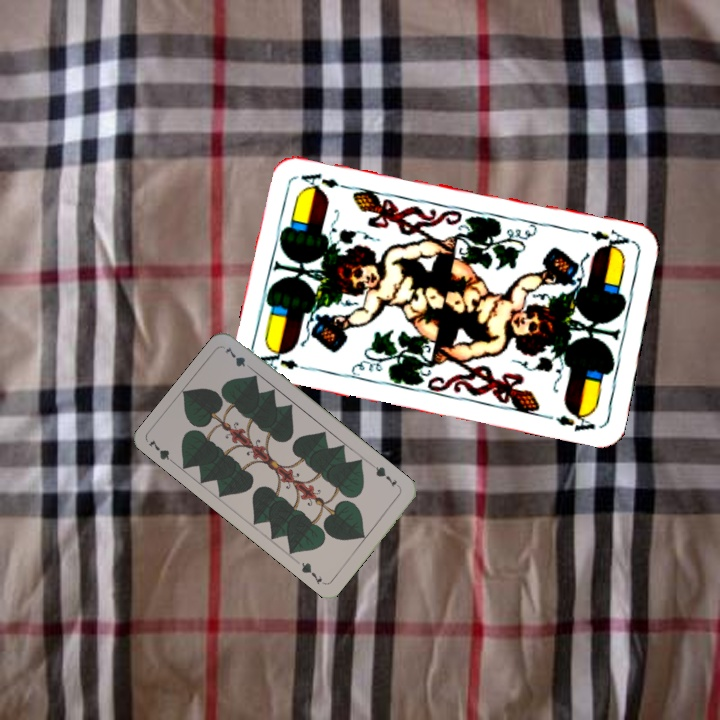EA: (256, 345, 315, 374), (577, 226, 636, 254)
G7: (145, 435, 179, 468), (369, 462, 399, 490)
